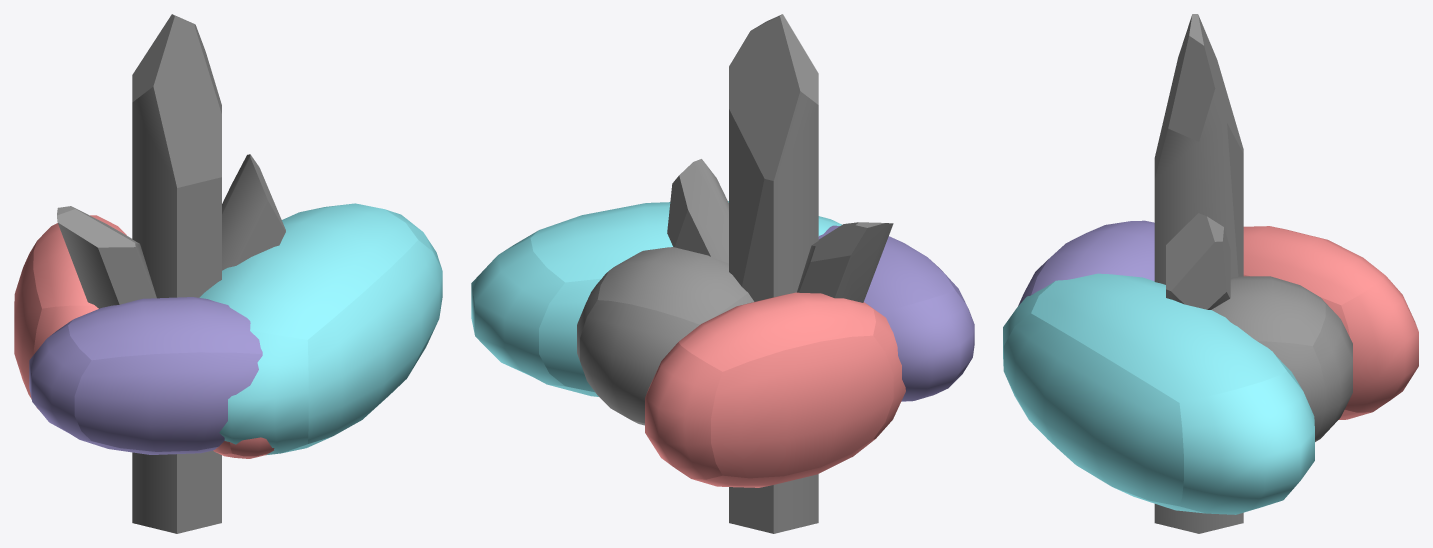
The model's file is Crystal 2.FBX.
The picture shows the model from 3 angles, left to right: view 1: azimuth 30°, elevation 25°; view 2: azimuth 150°, elevation 25°; view 3: azimuth 270°, elevation 25°; orthographic projection.
Visible parts, largest first — view 1: Box002, Cylinder001, Box001, Box003, Box004; view 2: Box003, Cylinder001, Box002, Box005, Box001; view 3: Box002, Cylinder001, Box003, Box005, Box001.
Part boxes in pixels (left/top/right/bottom): Box002: left=199, top=203, right=442, bottom=455; Cylinder001: left=57, top=14, right=285, bottom=533; Box001: left=29, top=297, right=262, bottom=454; Box003: left=14, top=215, right=126, bottom=408; Box004: left=213, top=437, right=274, bottom=458; Box003: left=645, top=292, right=905, bottom=487; Cylinder001: left=667, top=14, right=893, bottom=533; Box002: left=471, top=201, right=841, bottom=396; Box005: left=577, top=247, right=754, bottom=425; Box001: left=818, top=225, right=974, bottom=401; Box002: left=1003, top=273, right=1314, bottom=514; Cylinder001: left=1154, top=14, right=1243, bottom=533; Box003: left=1243, top=226, right=1418, bottom=419; Box005: left=1211, top=276, right=1352, bottom=441; Box001: left=1018, top=220, right=1154, bottom=305.
Size of the model in its own units: 14.72 by 16.09 by 12.24.
